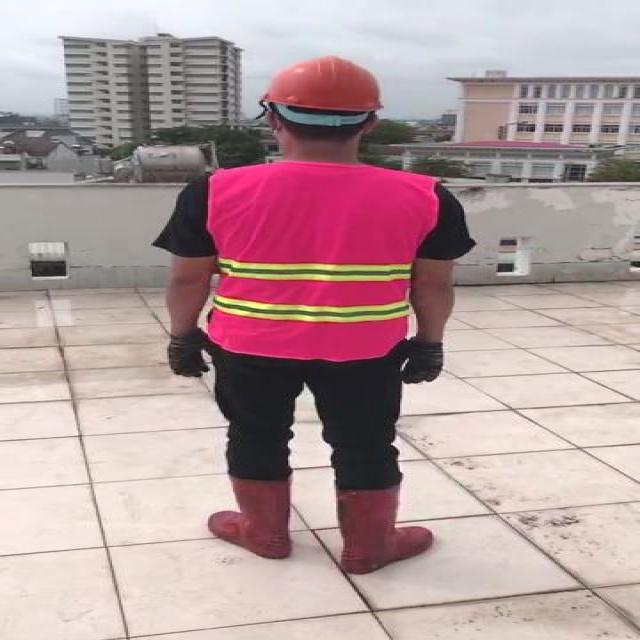boots: (332, 484, 430, 573), (210, 475, 295, 560)
hand_glove: (391, 338, 443, 384), (169, 332, 215, 378)
head_helmet: (262, 54, 389, 116)
person: (158, 50, 480, 580)
vest: (208, 162, 434, 355)
